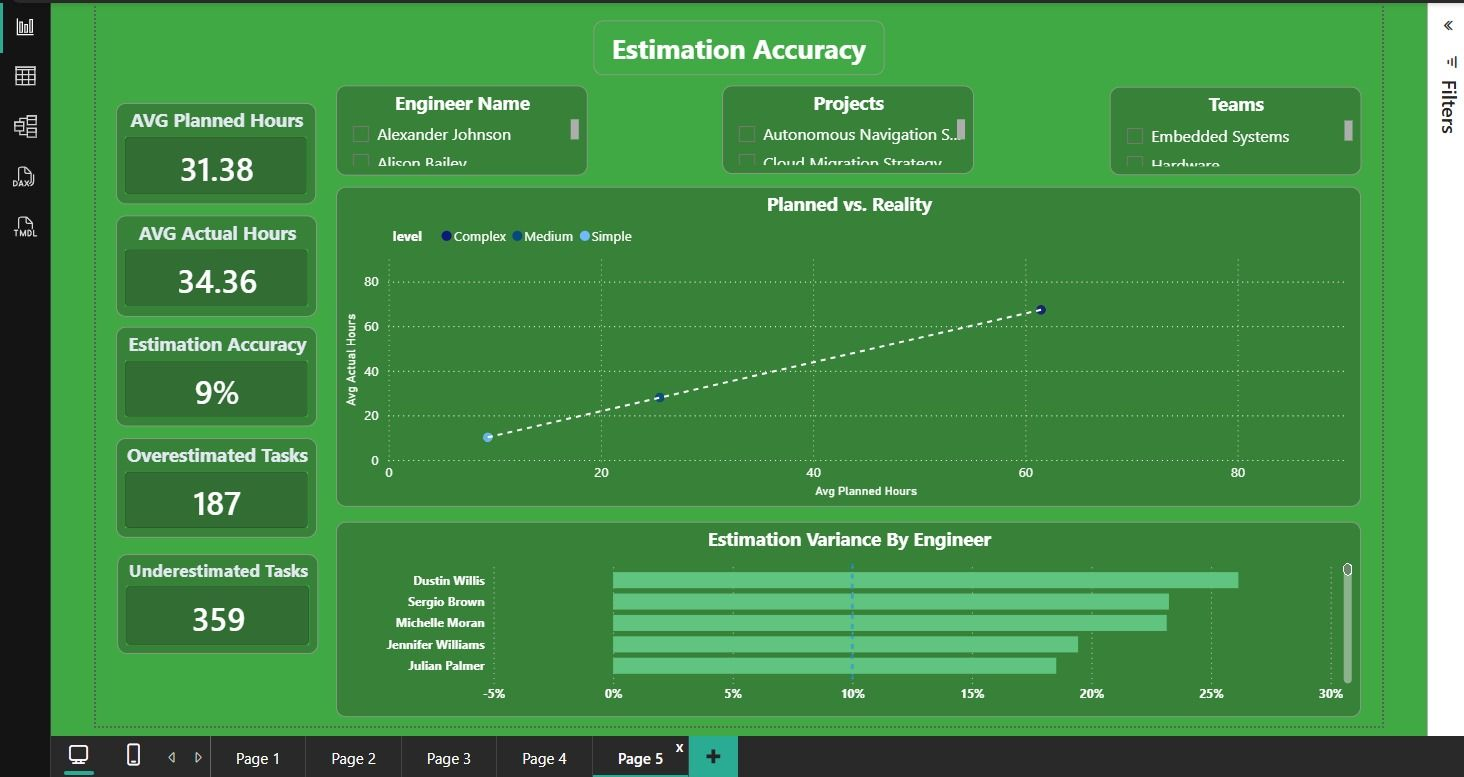

The dashboard page shown, as its layout file describes it:
{"tool":"powerbi","page":{"name":"Page 5","canvas":[1280,720],"ordinal":4},"visuals":[{"type":"shape","box":[495.1,17.4,289.8,54.7],"z":0},{"type":"cardVisual","title":"AVG Actual Hours","fields":{"Data":["Time_Logs.Avg Actual Hours"]},"box":[20,211.4,200.3,100.8],"z":1000},{"type":"cardVisual","title":"Underestimated Tasks","fields":{"Data":["Measure Table.Underestimated Tasks"]},"box":[21.1,548.6,200.3,99.5],"z":2000},{"type":"cardVisual","title":"AVG Planned Hours","fields":{"Data":["Tasks.Avg Planned Hours"]},"box":[20,100,199,100.8],"z":3000},{"type":"cardVisual","title":"Estimation Accuracy","fields":{"Data":["Time_Logs.Estimation Error"]},"box":[20,322.8,200.3,99.5],"z":4000},{"type":"cardVisual","title":"Overestimated Tasks","fields":{"Data":["Measure Table.Overestimated Tasks"]},"box":[20,432.9,200.3,99.5],"z":5000},{"type":"clusteredBarChart","title":"Estimation Variance By Engineer","fields":{"Category":["Engineers.full_name"],"Y":["Measure Table.Estimation Accuracy"]},"box":[238.8,516.2,1020,194.1],"z":6000},{"type":"slicer","title":"Projects","fields":{"Values":["Projects.project_name"]},"box":[623.8,82.1,250,88.3],"z":7000},{"type":"slicer","title":"Teams","fields":{"Values":["Engineers.team"]},"box":[1008.9,83.3,250,88.3],"z":8000},{"type":"slicer","title":"Engineer Name","fields":{"Values":["Engineers.full_name"]},"box":[238.8,82.1,250,89.6],"z":9000},{"type":"scatterChart","title":"Planned vs. Reality","fields":{"X":["Measure Table.Avg Planned Hours"],"Y":["Measure Table.Avg Actual Hours"],"Category":["Task_Levels.level_name"],"Series":["Task_Levels.level_name"]},"box":[238.8,182.9,1020,318.5],"z":10000}]}

Visuals, with their boxes on the page's 1280x720 design canvas (x1, y1, x2, y2). These are canvas units, not pixel positions in the 1464x777 screenshot, which may show the page scaled, cropped or inside an application window:
shape: rect(495, 17, 785, 72)
"AVG Actual Hours" cardVisual: rect(20, 211, 220, 312)
"Underestimated Tasks" cardVisual: rect(21, 549, 221, 648)
"AVG Planned Hours" cardVisual: rect(20, 100, 219, 201)
"Estimation Accuracy" cardVisual: rect(20, 323, 220, 422)
"Overestimated Tasks" cardVisual: rect(20, 433, 220, 532)
"Estimation Variance By Engineer" clusteredBarChart: rect(239, 516, 1259, 710)
"Projects" slicer: rect(624, 82, 874, 170)
"Teams" slicer: rect(1009, 83, 1259, 172)
"Engineer Name" slicer: rect(239, 82, 489, 172)
"Planned vs. Reality" scatterChart: rect(239, 183, 1259, 501)
